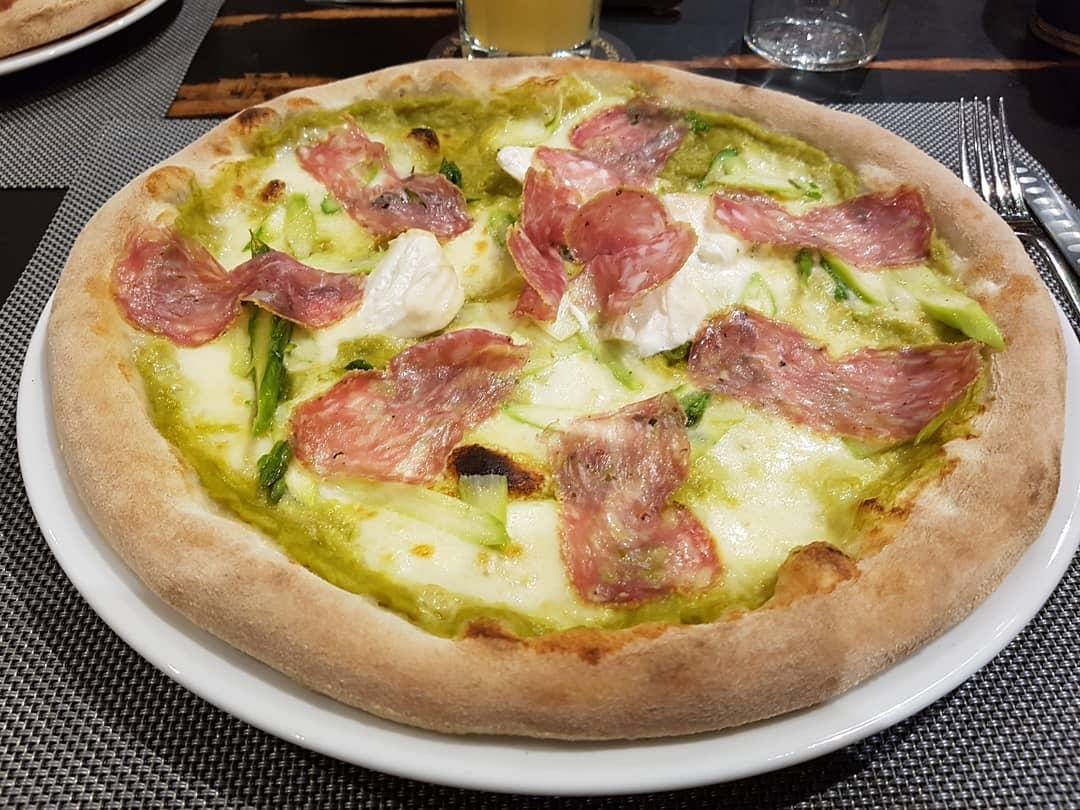Ham: (698, 293, 983, 439), (293, 332, 517, 494), (549, 393, 703, 601), (516, 140, 685, 317), (709, 179, 952, 261), (303, 112, 458, 236), (119, 236, 236, 344), (240, 249, 365, 326), (565, 98, 692, 173)
Onion: (625, 186, 757, 351), (375, 238, 464, 325)
Pizza: (52, 46, 1074, 741)
